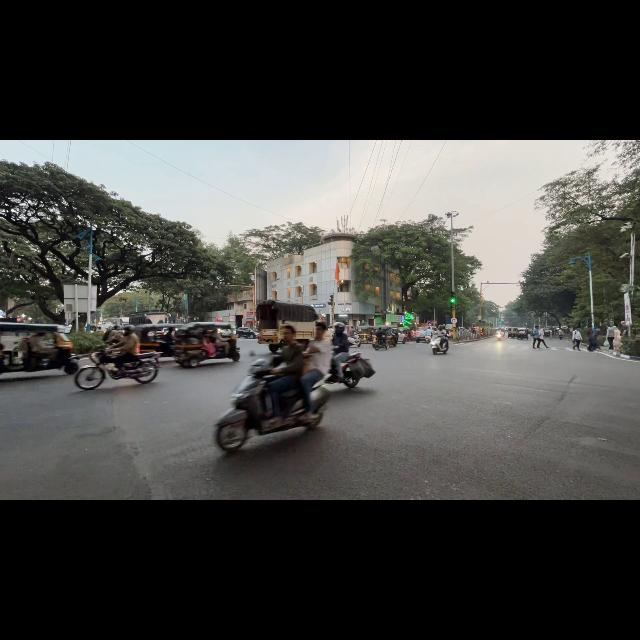bus: (129, 311, 170, 325)
car: (236, 327, 258, 338), (427, 327, 437, 333)
motorcycle: (215, 359, 330, 451), (75, 349, 161, 390), (325, 352, 361, 387), (432, 338, 448, 354), (372, 337, 389, 350), (348, 336, 360, 347), (496, 332, 503, 340)
truck: (256, 300, 317, 352)
